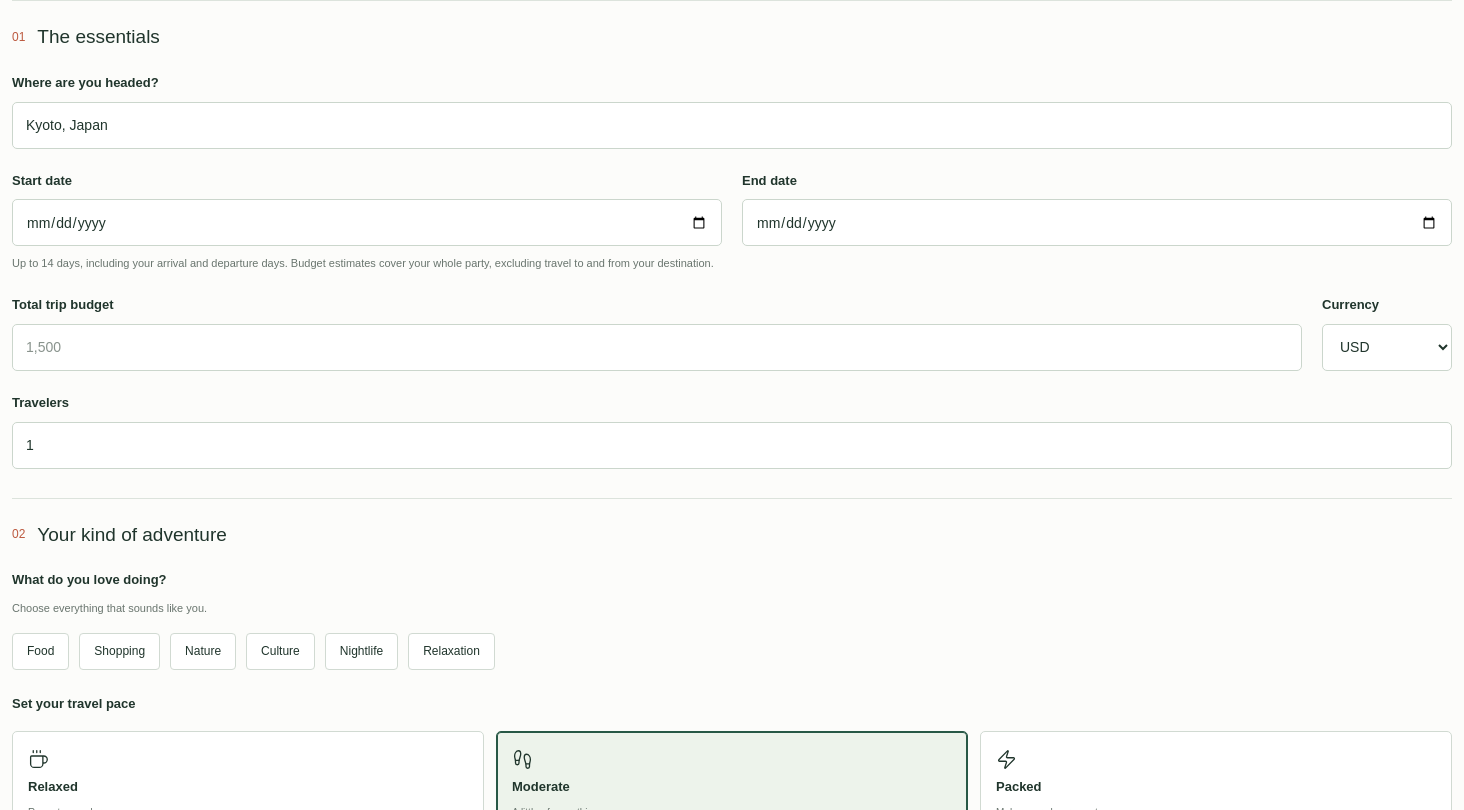
Test: does not generate a trip when typed geography cannot be resolved
Type "2026-12-01" into the date field labelled "Start date" at (367, 223), box [12,199,722,246]
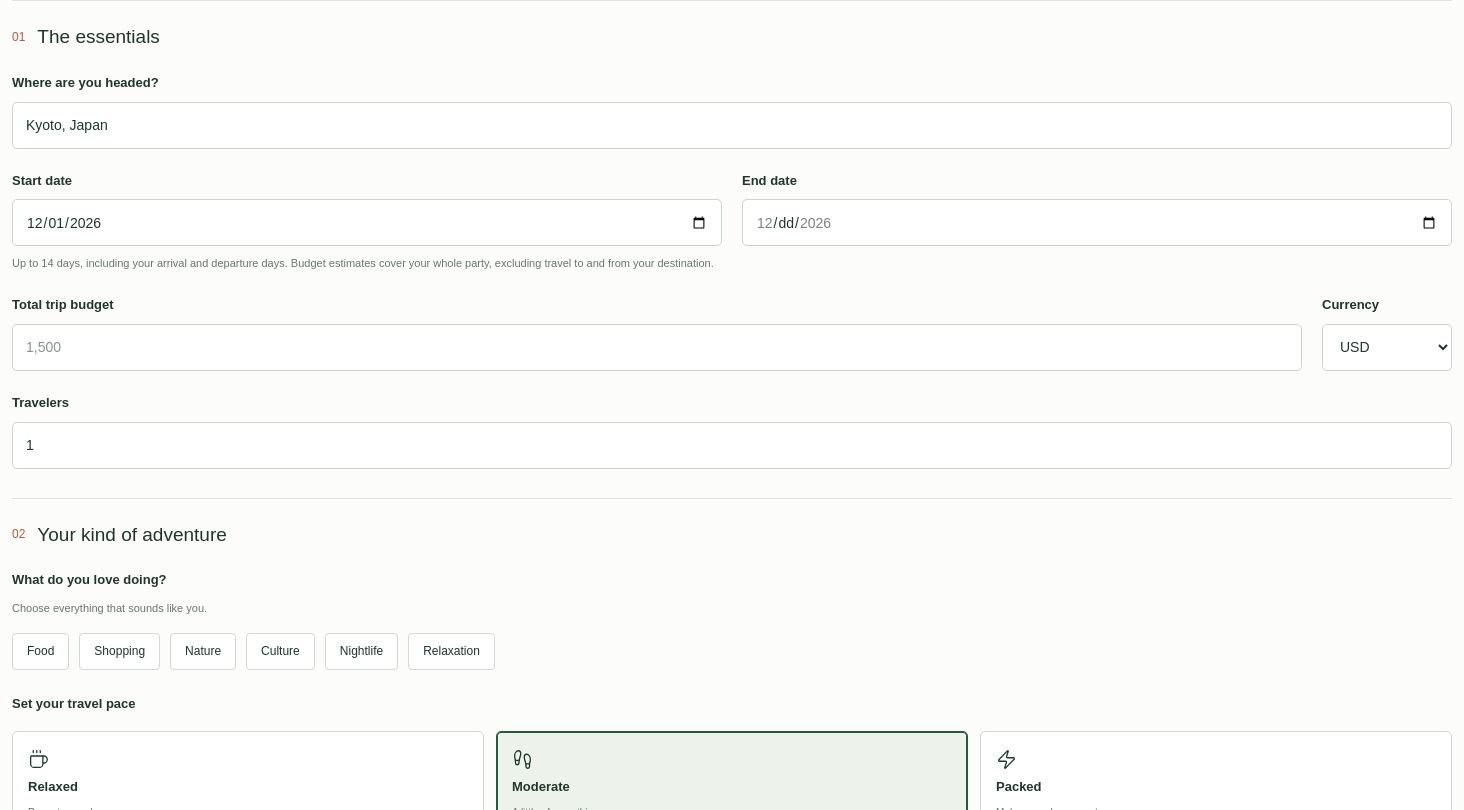
Type "2026-12-03" into the date field labelled "End date" at (1097, 223), box [742,199,1452,246]
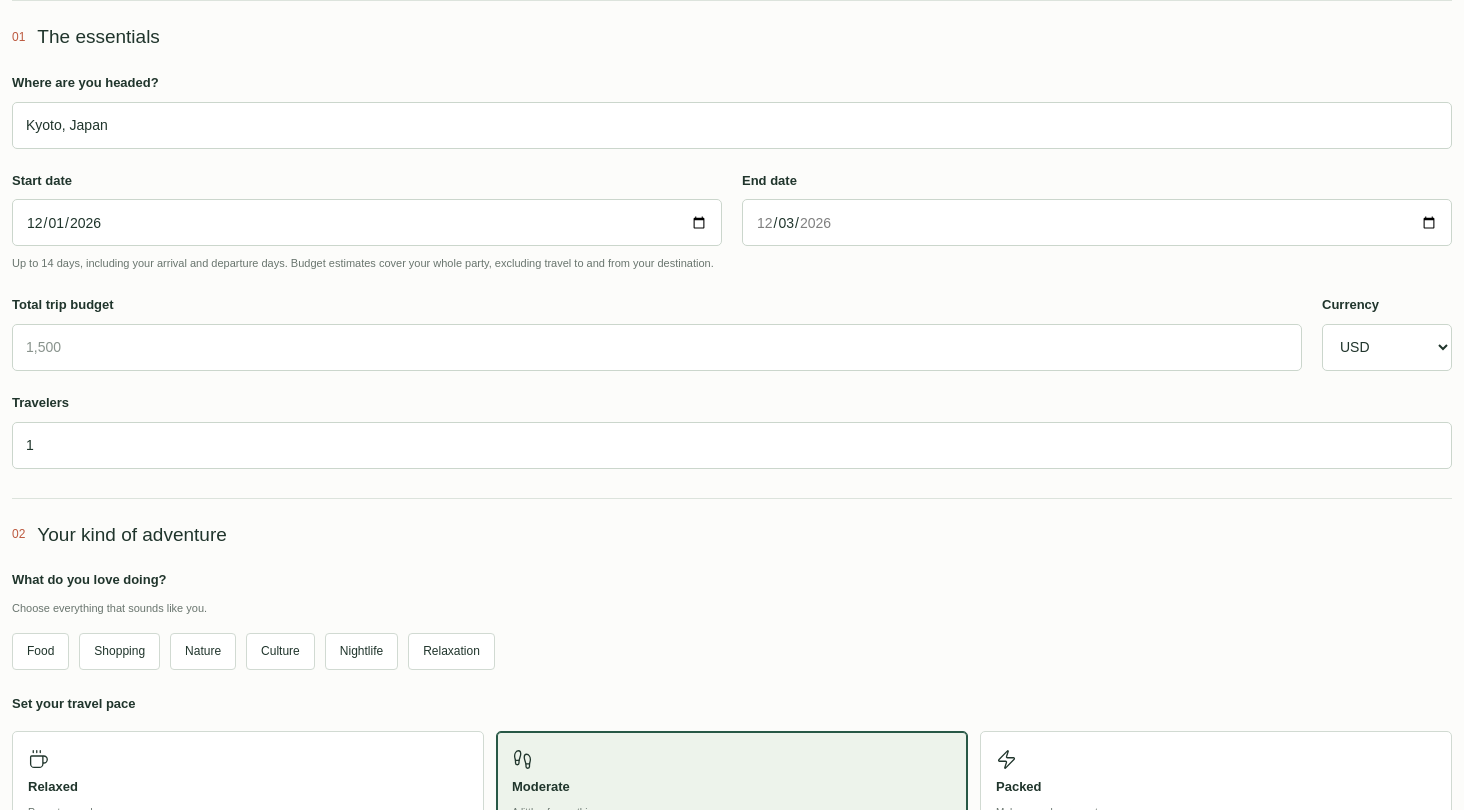
Type "1500" into the number field labelled "Total trip budget" at (657, 347), box [12,324,1302,371]
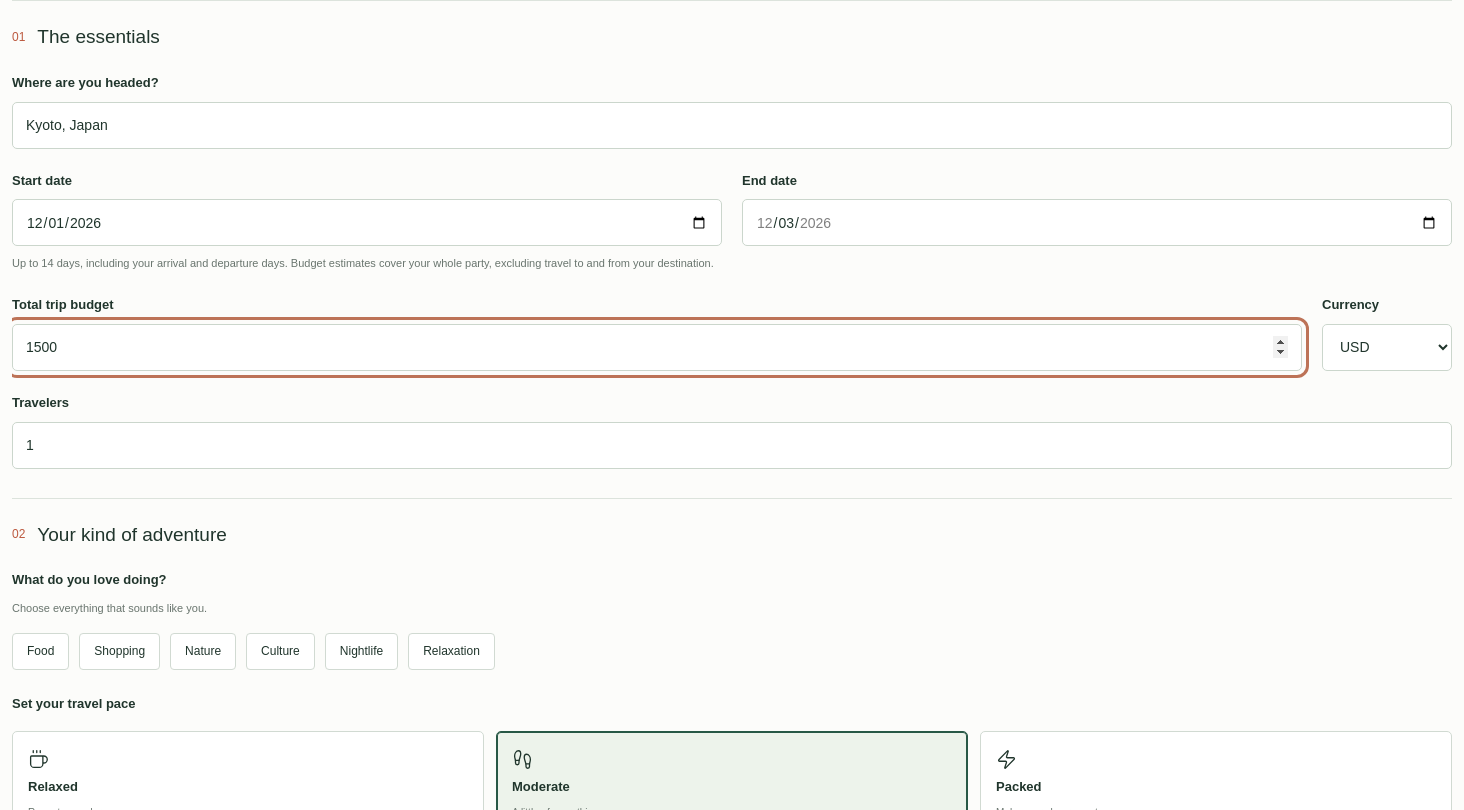
Click the checkbox labelled "Food" at (41, 651), box [12,633,69,670]
(page scrolled)
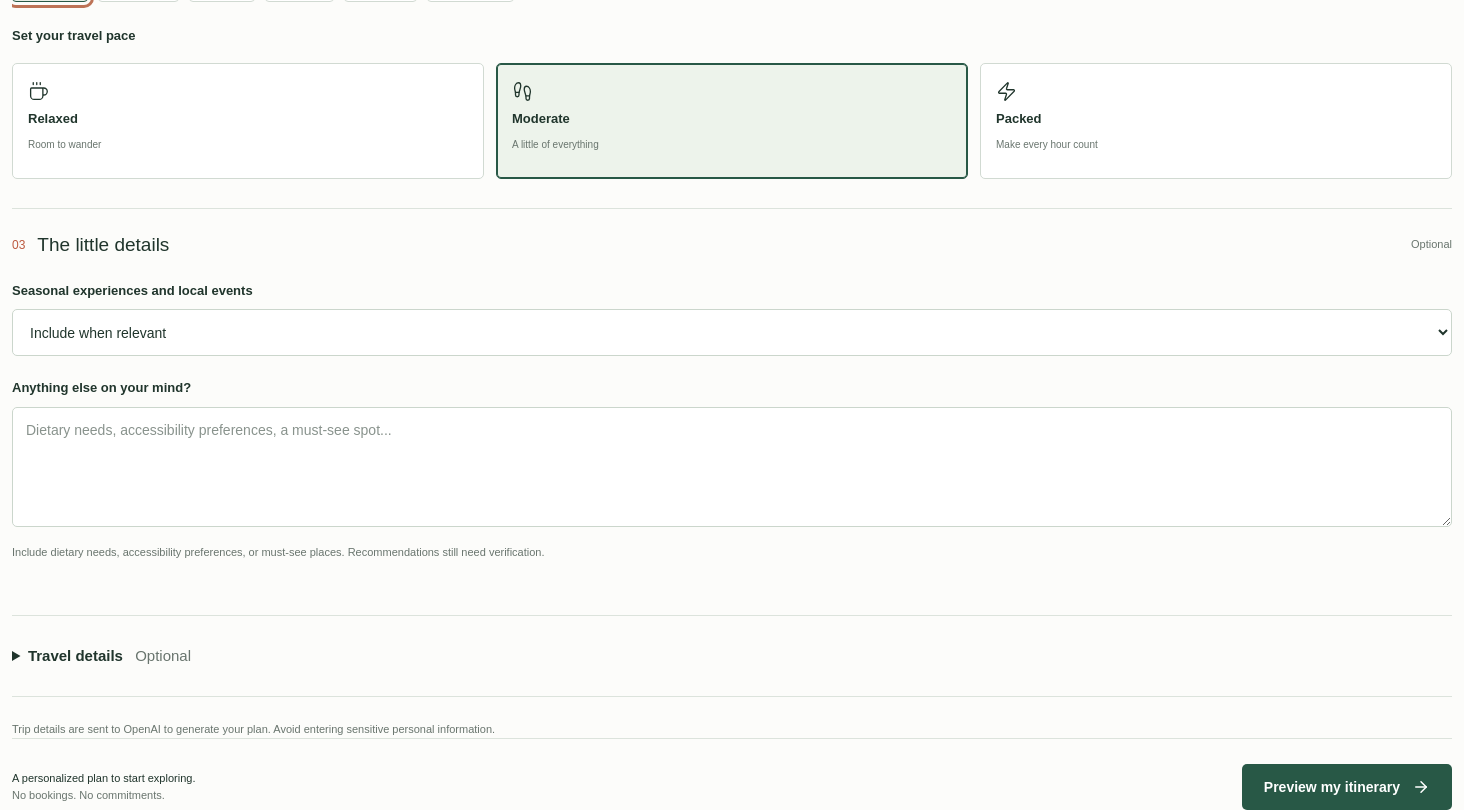
Click the button "Preview my itinerary" at (1347, 787), box [1242,764,1452,809]
(page scrolled)
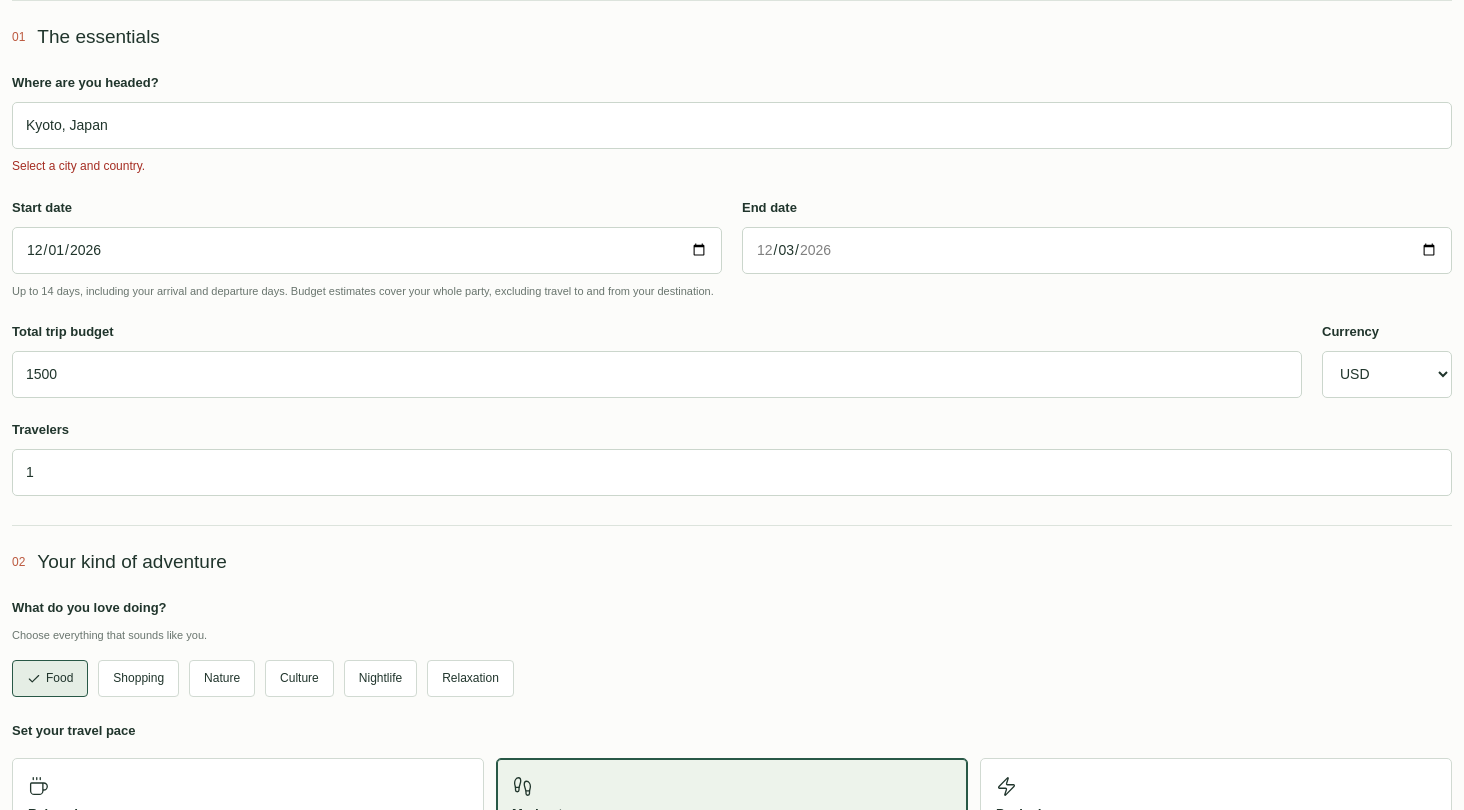
Expected: the text "Select a city and country." is shown, [12,159,145,173]
